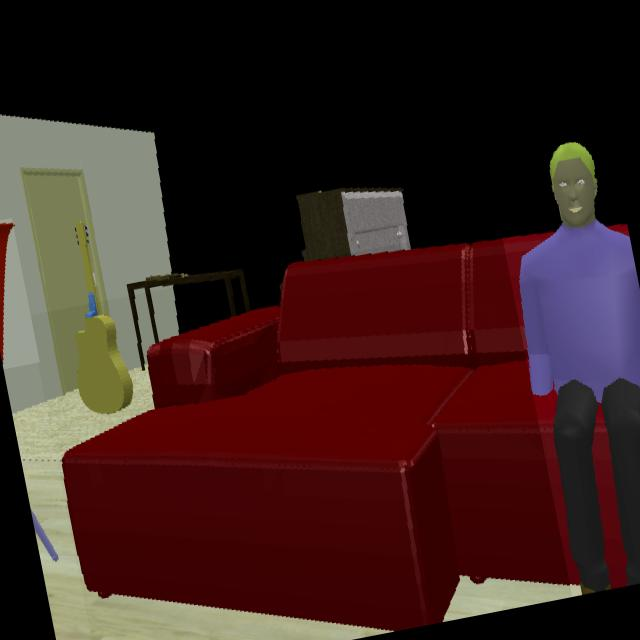chair: (0, 226, 13, 368)
person: (519, 145, 640, 593)
sofa: (61, 236, 579, 633)
